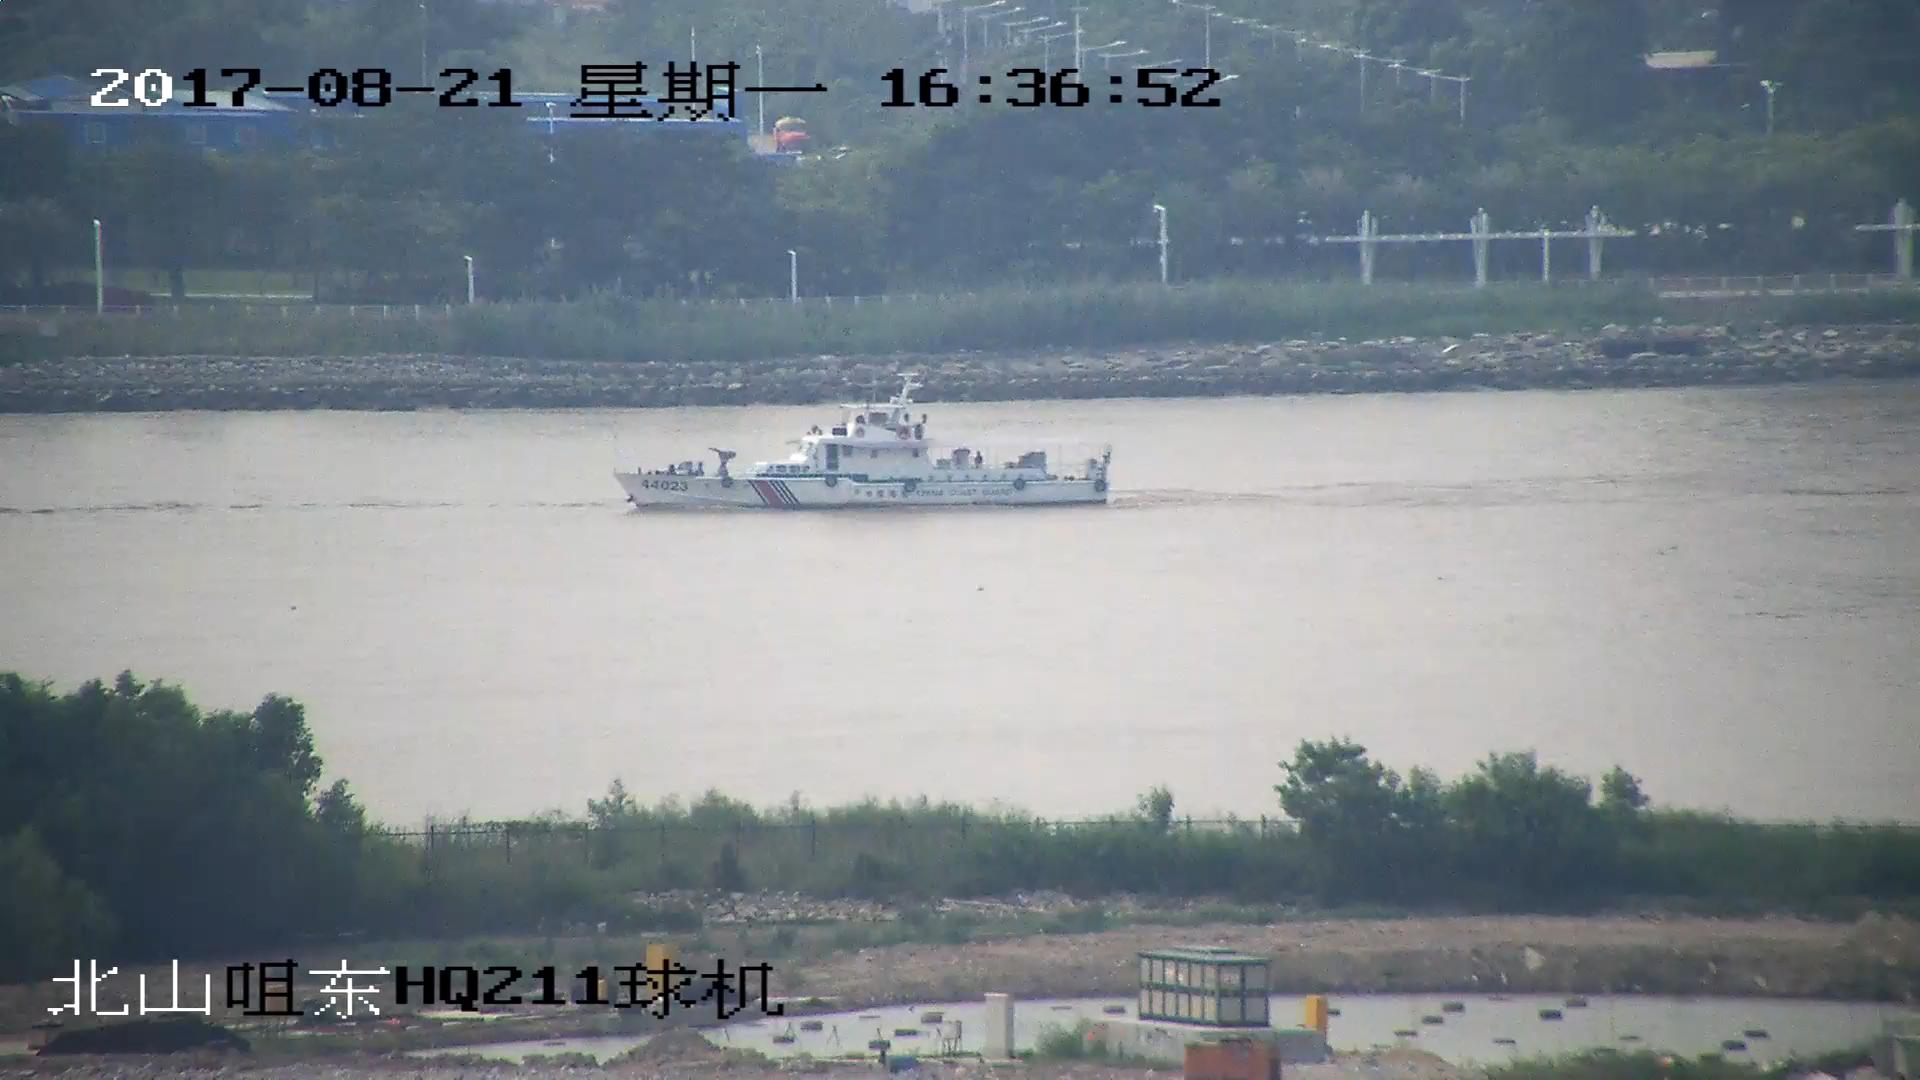passenger ship: (616, 373, 1114, 511)
